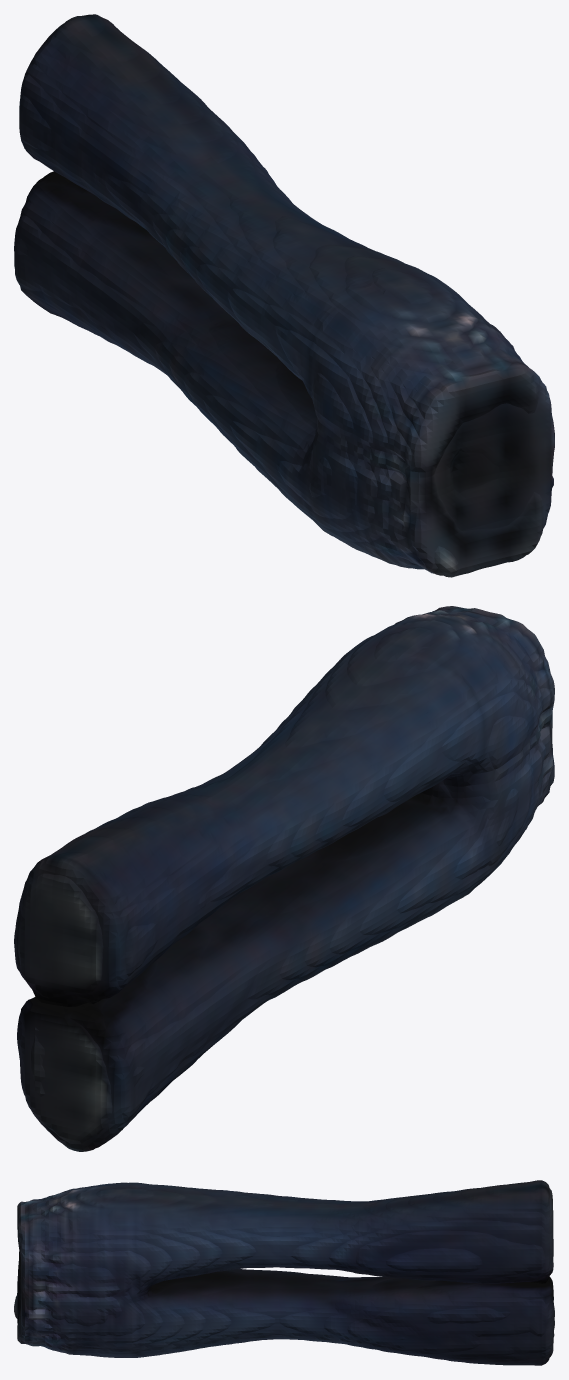
3 renders of one model, top to bottom at view 1: azimuth 30°, elevation 25°; view 2: azimuth 150°, elevation 25°; view 3: azimuth 270°, elevation 25°, orthographic. The views are drawn at different scales.
Bounding box in the file's own units: 0.2204 × 0.3473 × 0.929.
